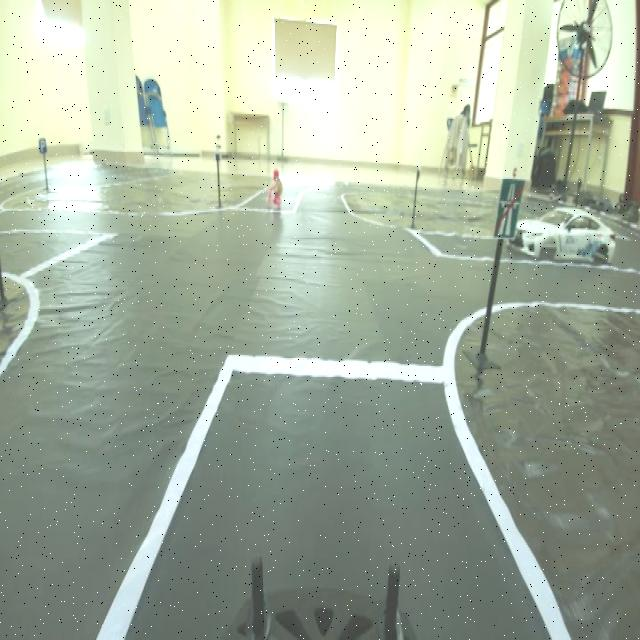highway_exit: (493, 173, 528, 245)
